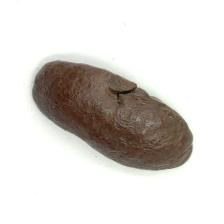NG: (105, 71, 148, 107)
